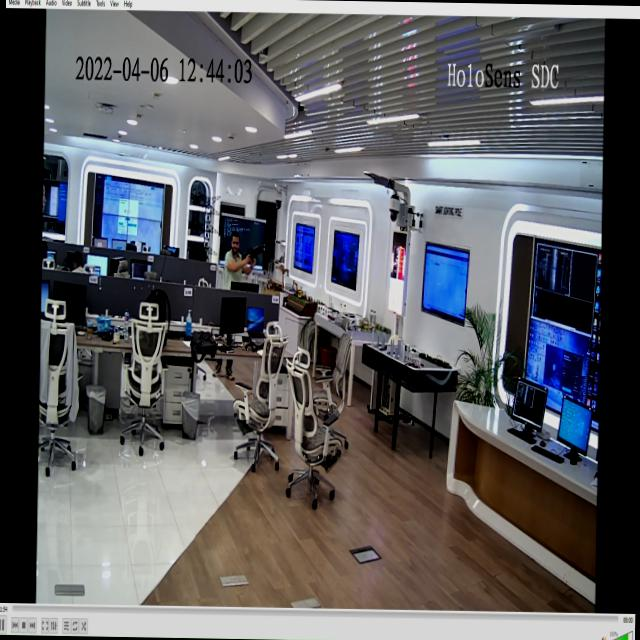long weapon: (236, 236, 272, 281)
